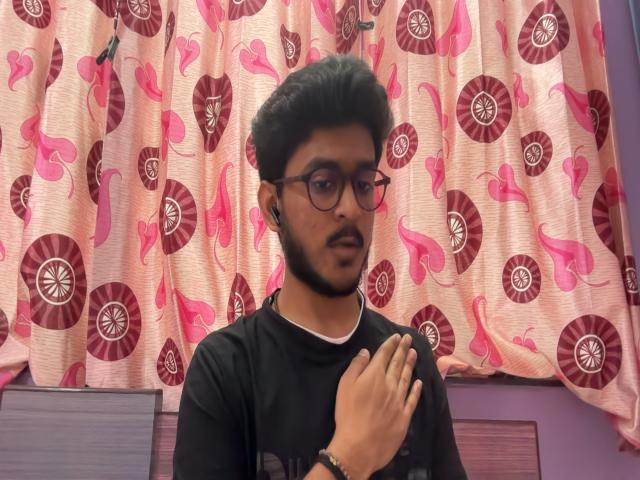Please: (324, 327, 441, 480)
